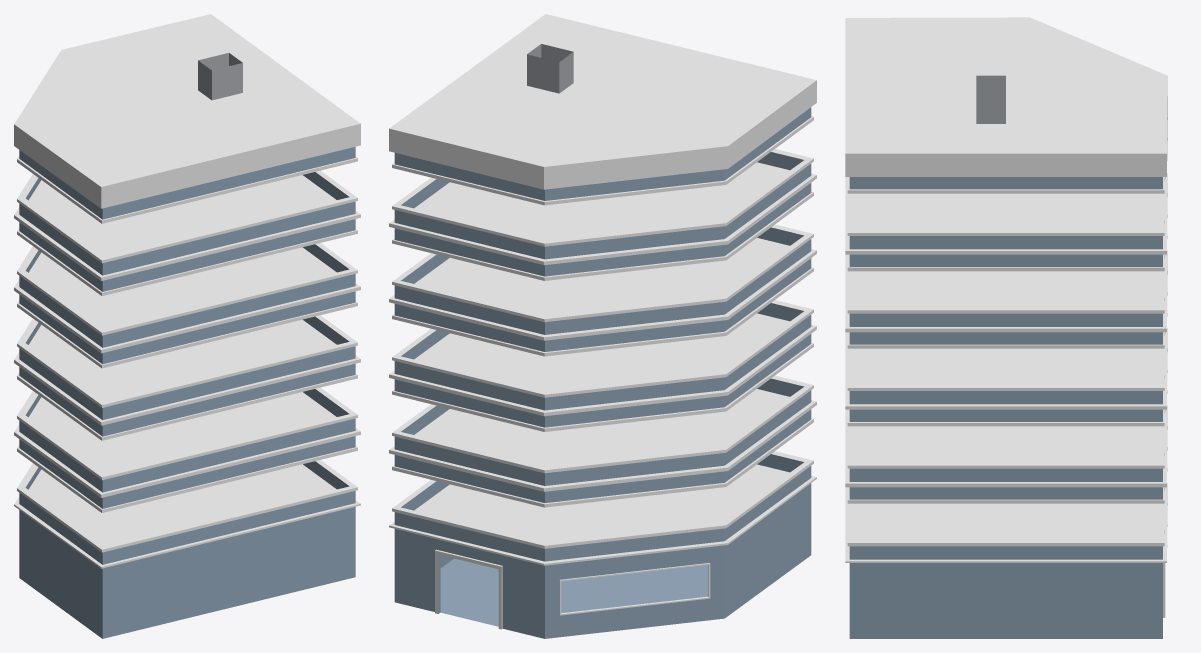
The model's file is Bld_O_high_L5_C.fbx.
The picture shows the model from 3 angles, left to right: view 1: azimuth 30°, elevation 25°; view 2: azimuth 150°, elevation 25°; view 3: azimuth 270°, elevation 25°; orthographic projection. The views are drawn at different scales.
Parts seen in each view (by area): view 1: Bld_O_high_L5_C_LOD0; view 2: Bld_O_high_L5_C_LOD0; view 3: Bld_O_high_L5_C_LOD0.
Part boxes in pixels (x1,y1,x2,y2): Bld_O_high_L5_C_LOD0: [14, 14, 360, 638]; Bld_O_high_L5_C_LOD0: [389, 14, 816, 638]; Bld_O_high_L5_C_LOD0: [845, 17, 1167, 638].
Size of what is drawn, in the model's own units: 2180 by 4179 by 2304.
Materials: 1 (1 with a texture image).
